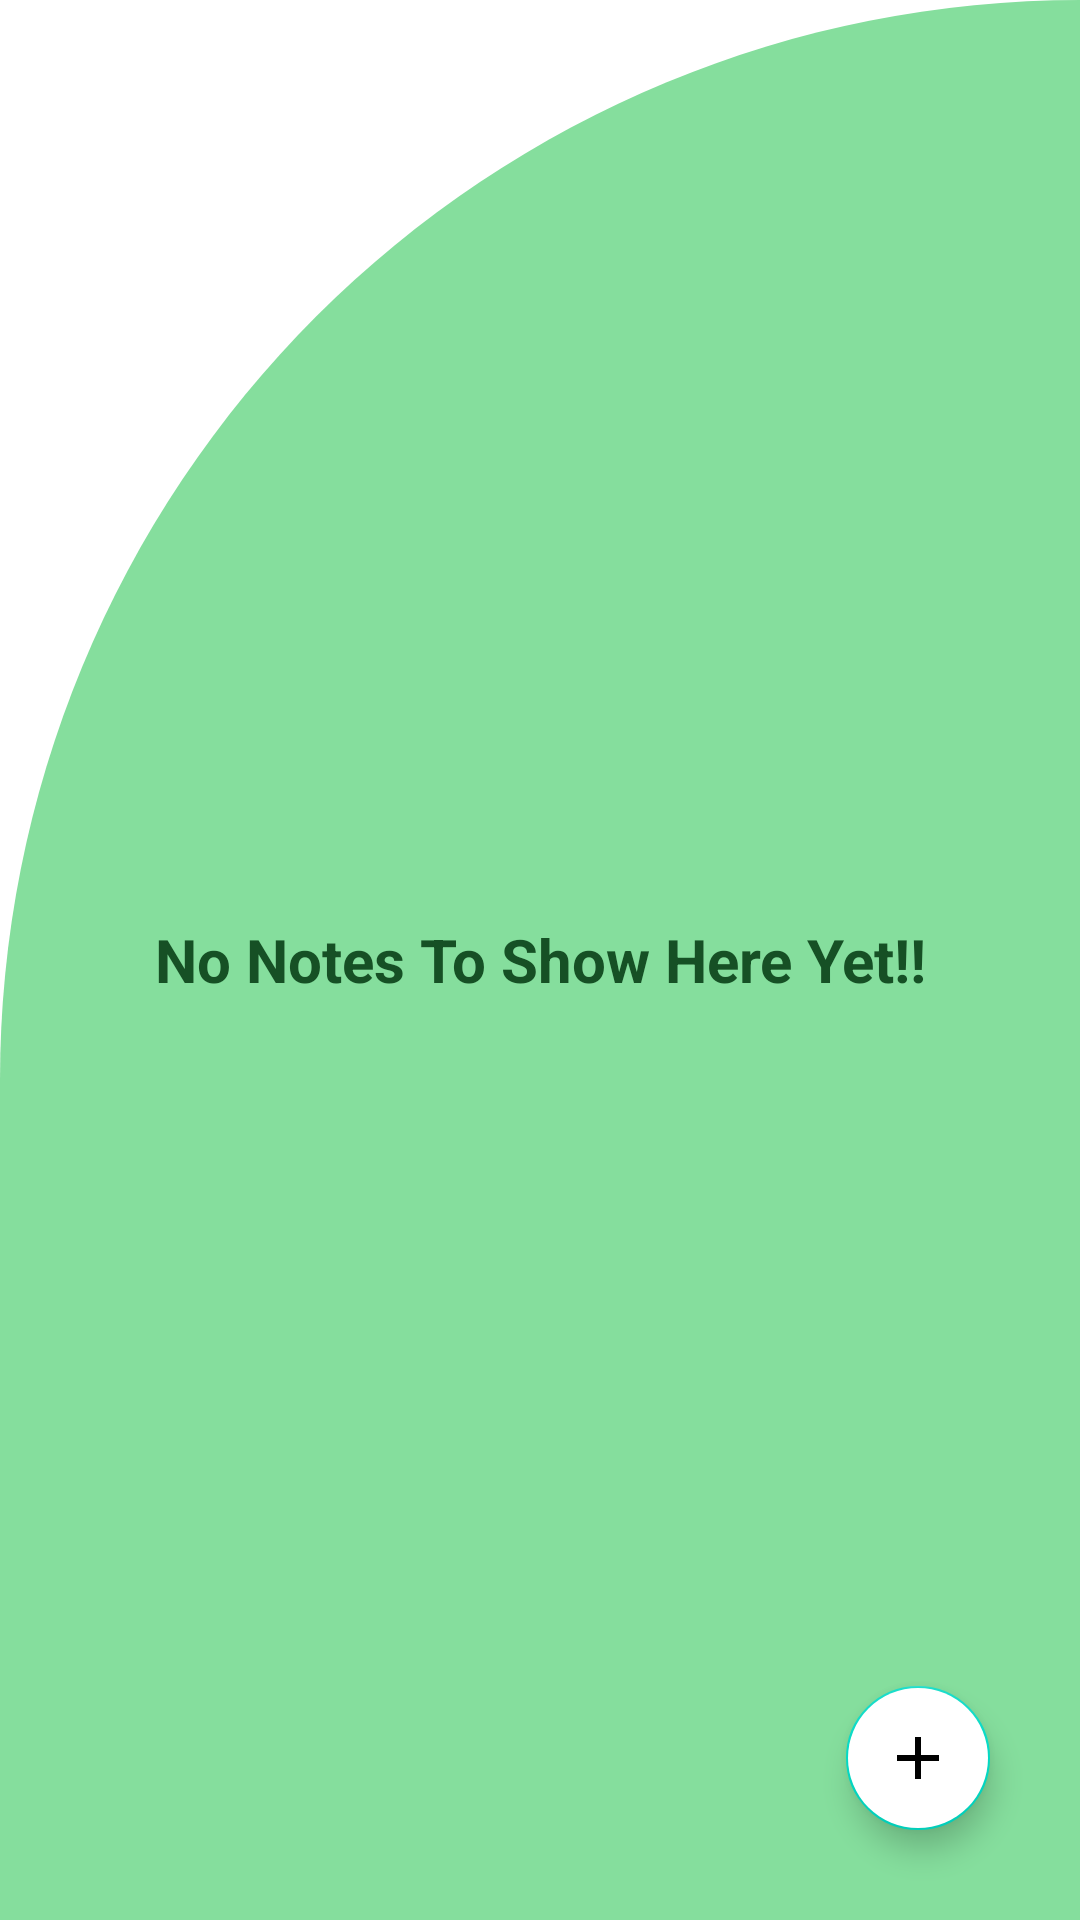

Screen size 1080px×1920px. Icon name, then its center in pixels as (x,y):
add: (918,1758)
